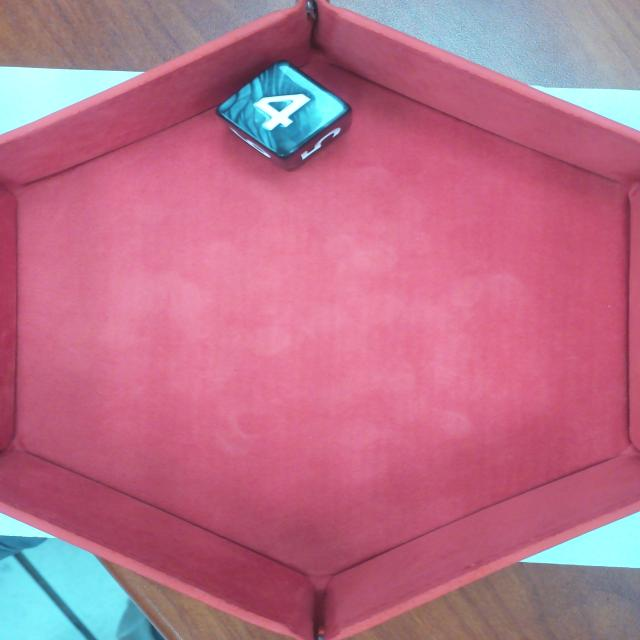dice: (223, 64, 345, 148)
